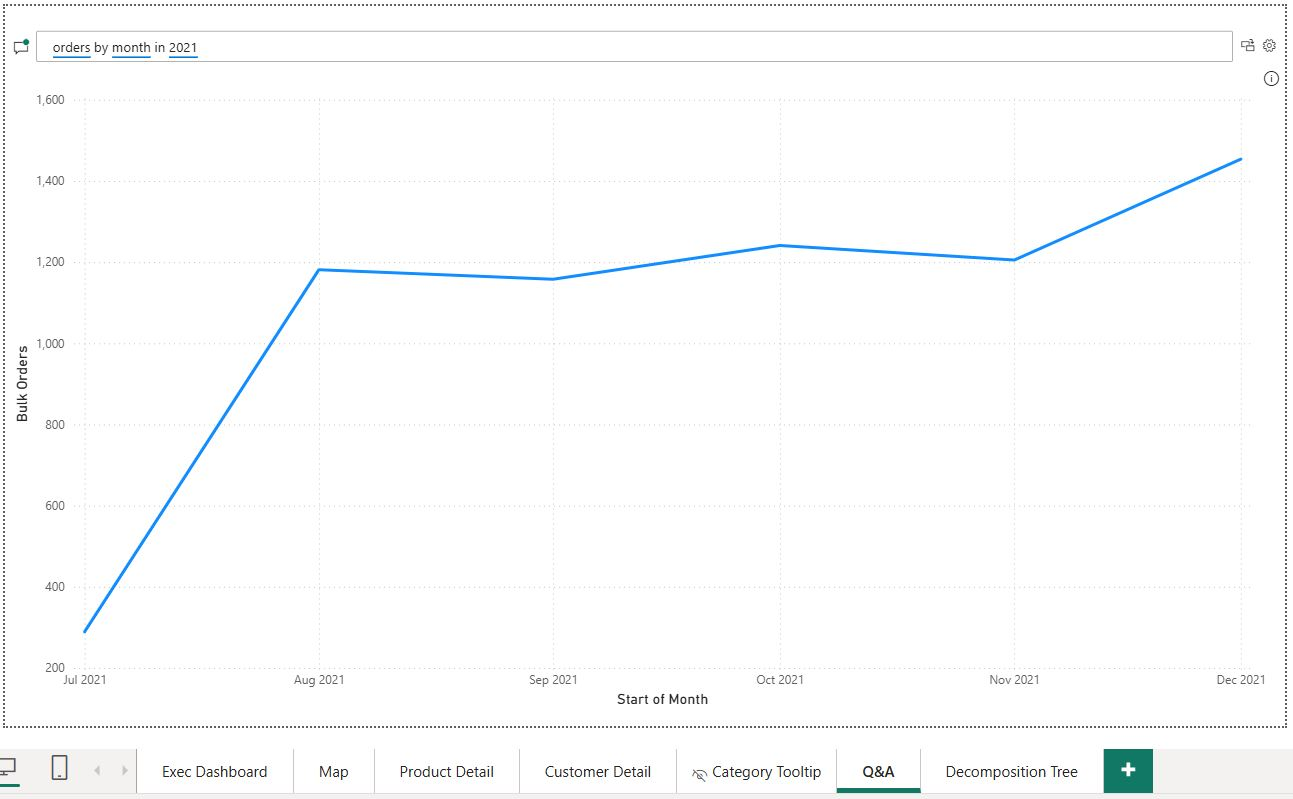

This screenshot's page, from the dashboard's own definition file:
{"tool":"powerbi","page":{"name":"Q&A","canvas":[1280,720],"ordinal":5},"visuals":[{"type":"qnaVisual","box":[0,0,1280,720],"z":1000}]}

Visuals, with their boxes on the page's 1280x720 design canvas (x1, y1, x2, y2). These are canvas units, not pixel positions in the 1293x799 screenshot, which may show the page scaled, cropped or inside an application window:
qnaVisual: (x1=0, y1=0, x2=1280, y2=720)
